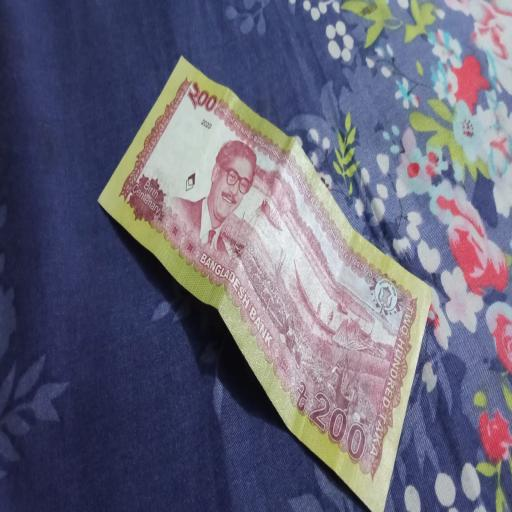200taka: (99, 58, 432, 511)
